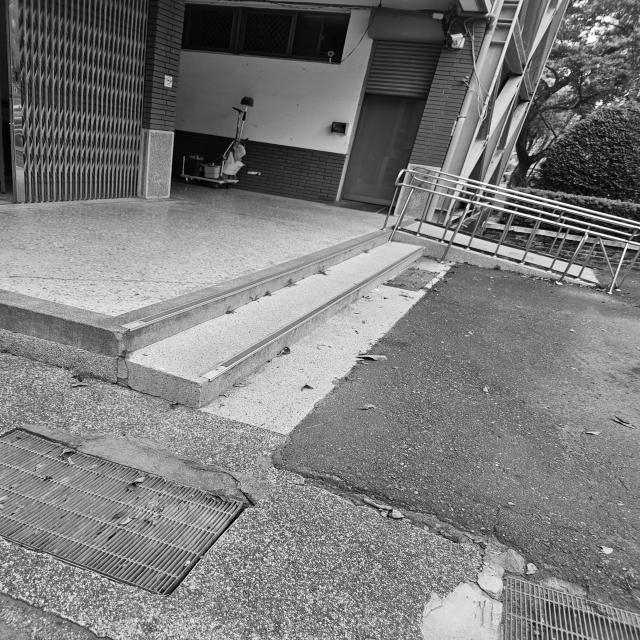Road-Object: (0, 259, 640, 640), (0, 182, 384, 316)
floor: (0, 230, 425, 408)
